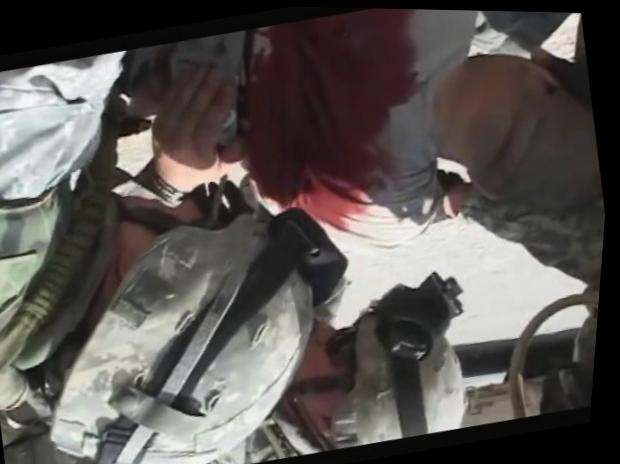Fire: (249, 7, 416, 225)
